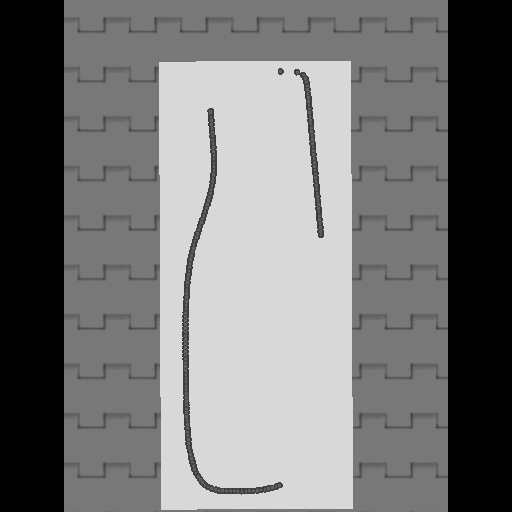Defect: (280, 234, 327, 490)
